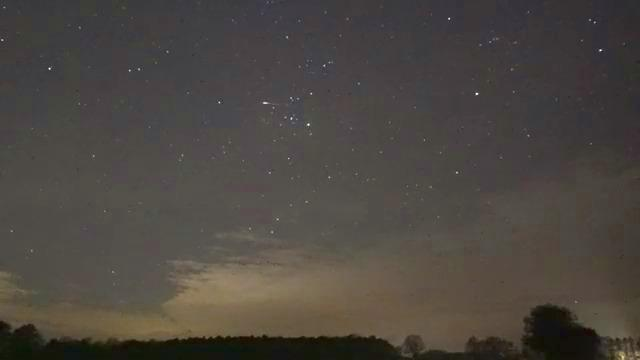meteorite: (256, 99, 293, 107)
